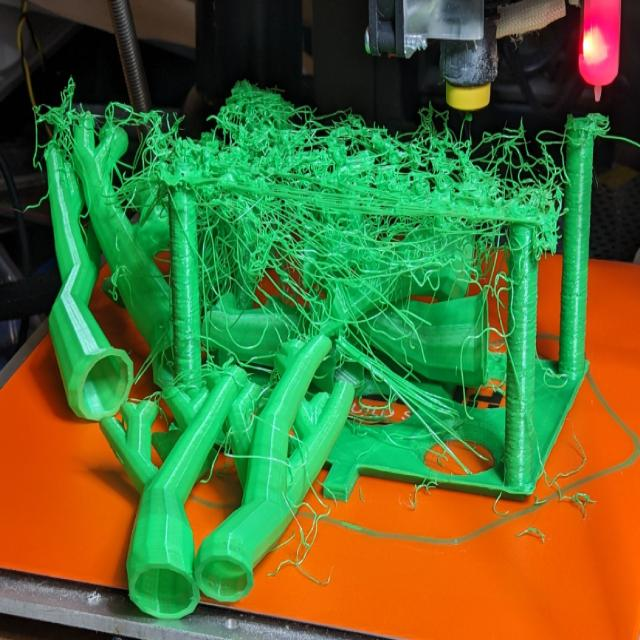spaghetti: (42, 70, 601, 348)
